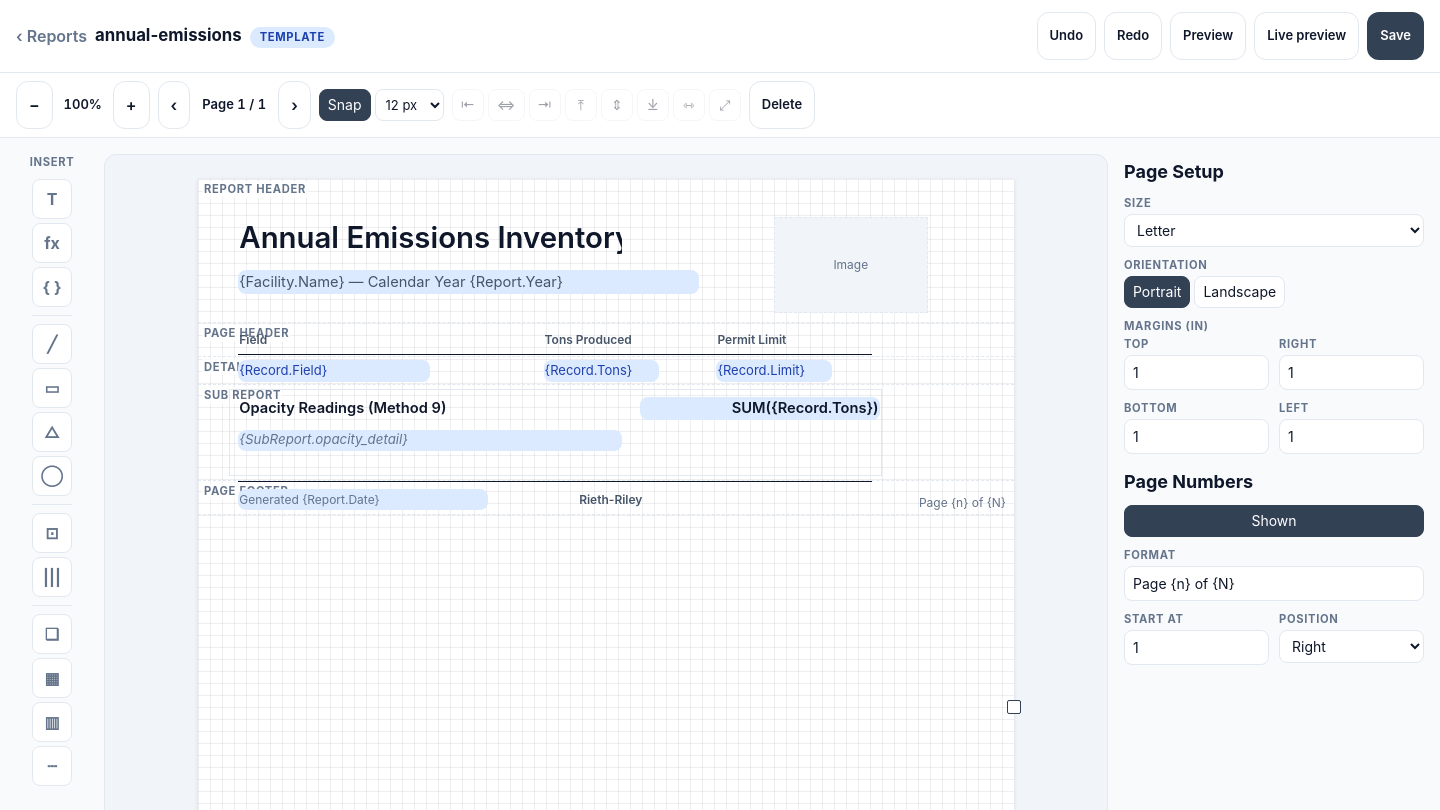
ReportBuilderScreen — canvas & zoom (Phase 2) › zooms in and out through the toolbar controls
The width and height of the screenshot is (1440, 810).
Click the button named "Zoom in": x=131, y=105 x1=113 y1=81 x2=150 y2=129
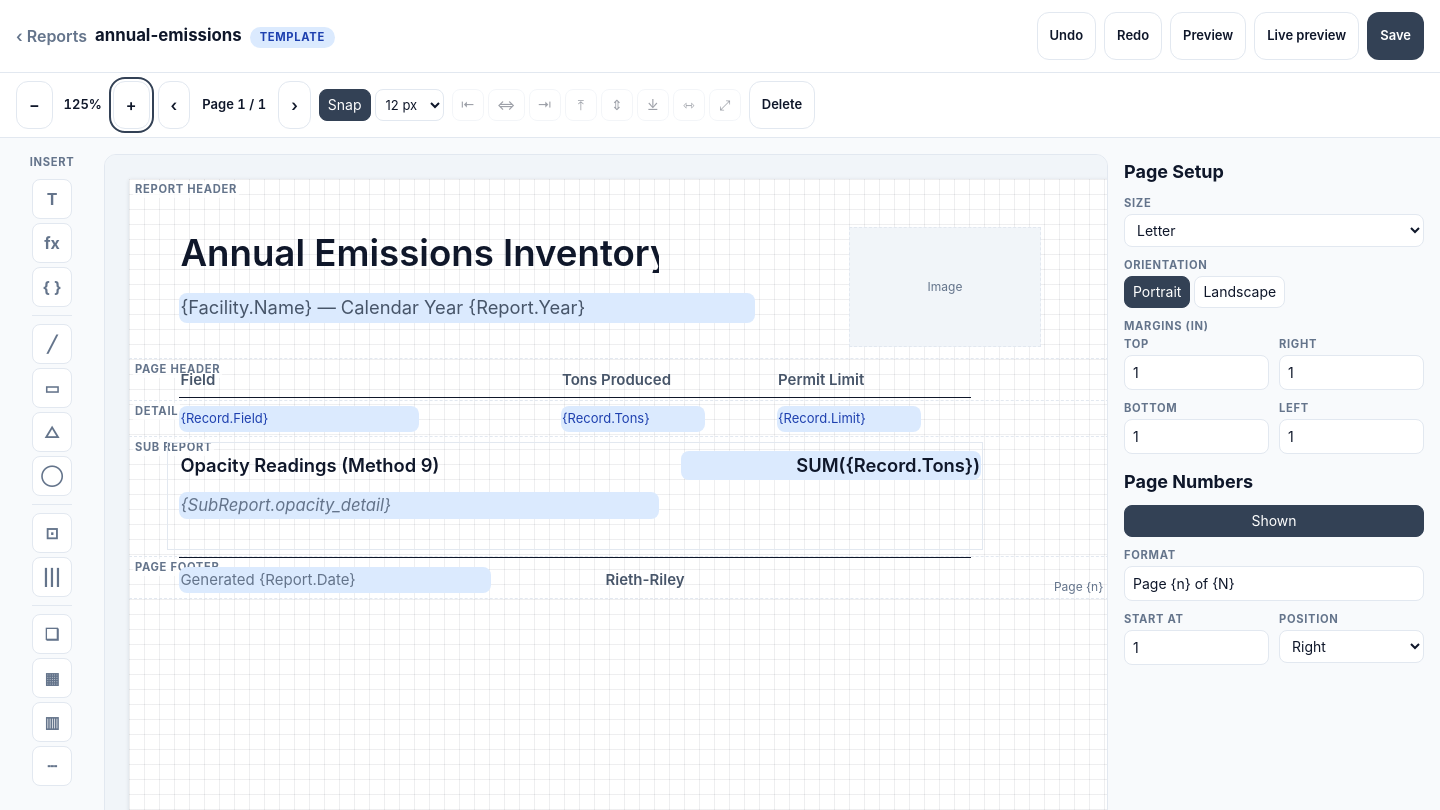
Check: the text "125%" is shown, box x1=64 y1=96 x2=102 y2=112
Click the button named "Zoom out": x=34, y=105 x1=16 y1=81 x2=53 y2=129
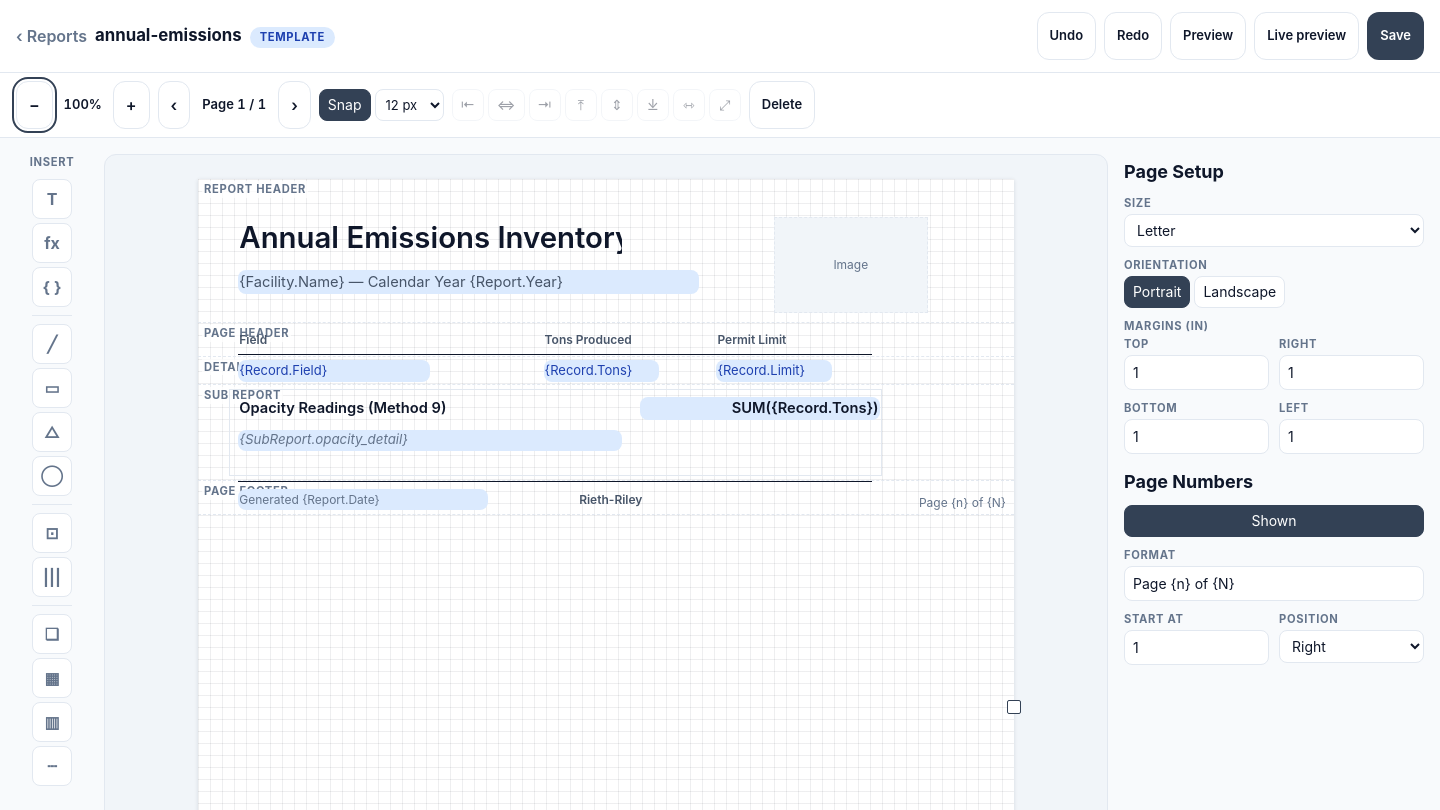
Click the button named "Zoom out": x=34, y=105 x1=16 y1=81 x2=53 y2=129
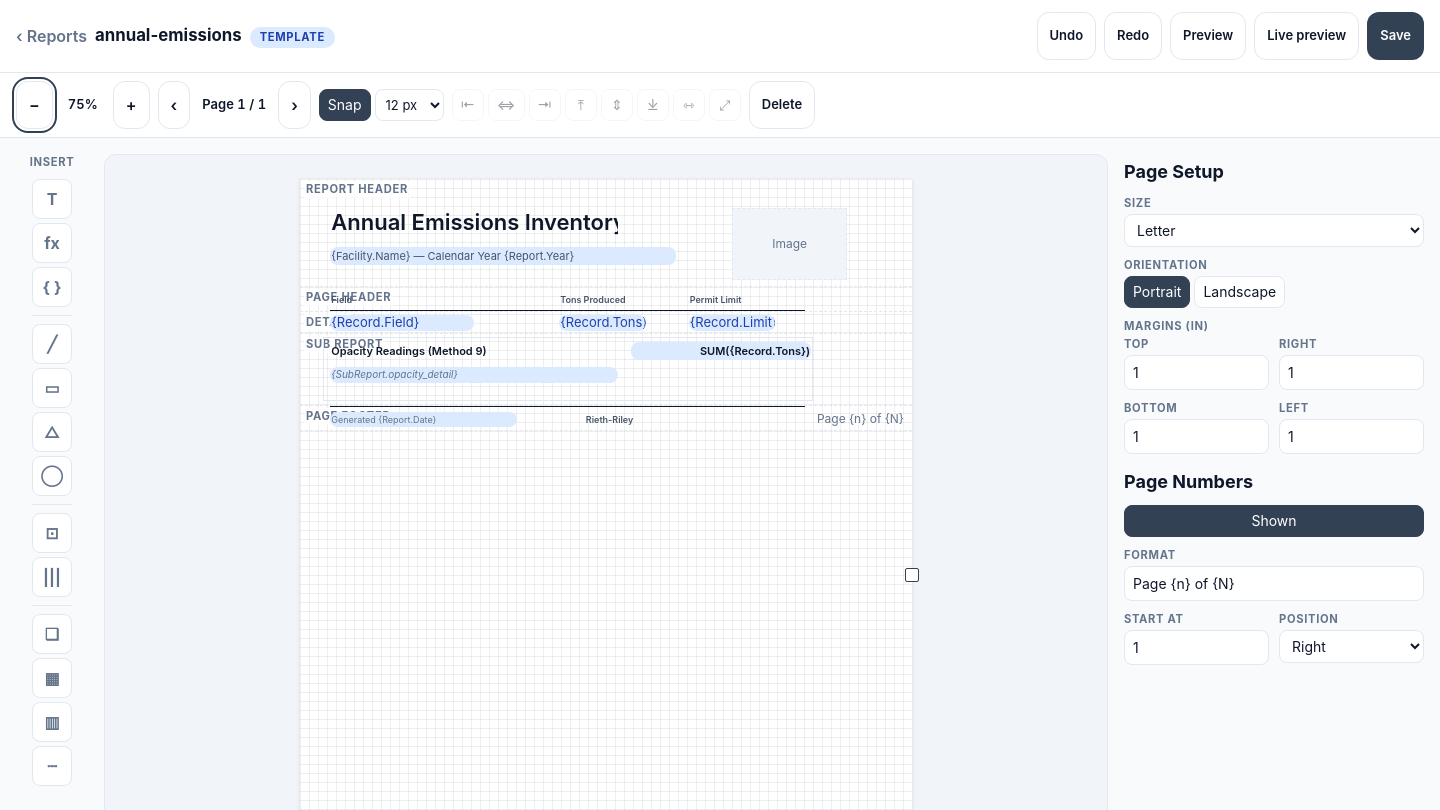
Check: the text "75%" is shown, box x1=68 y1=96 x2=98 y2=112
